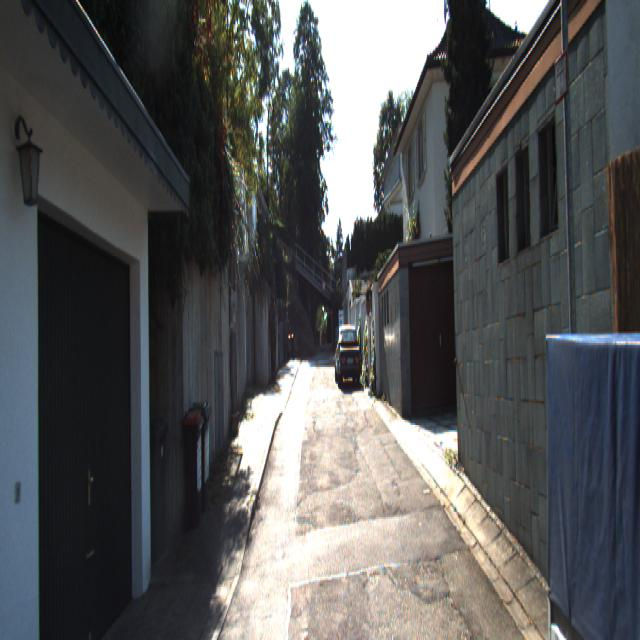Car: (534, 309, 640, 638), (335, 319, 362, 388)
